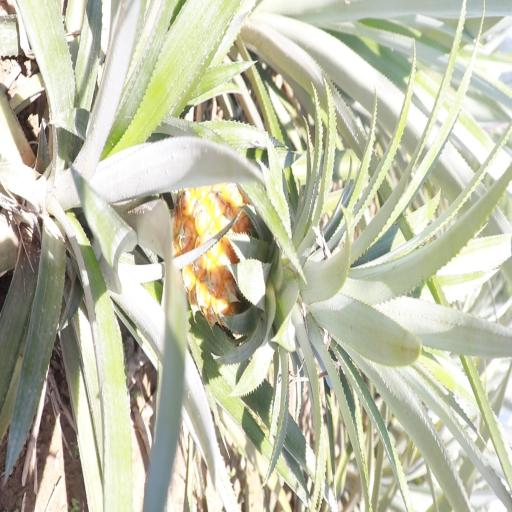Pineapple - v8 v1: (176, 187, 424, 366)
